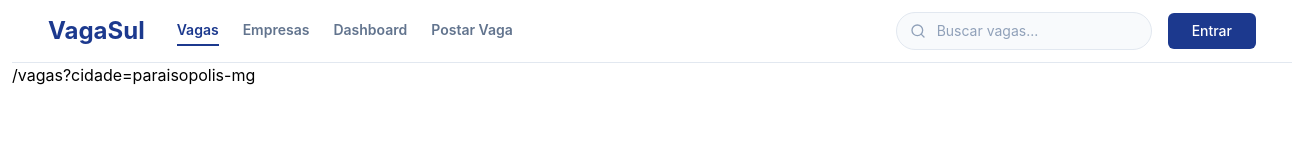
Test: Navbar › keeps listing filters when searching from /vagas
The image size is (1292, 160).
Type "vendedor" into the search field labelled "Buscar vagas" at (1024, 31), box [896,12,1152,50]
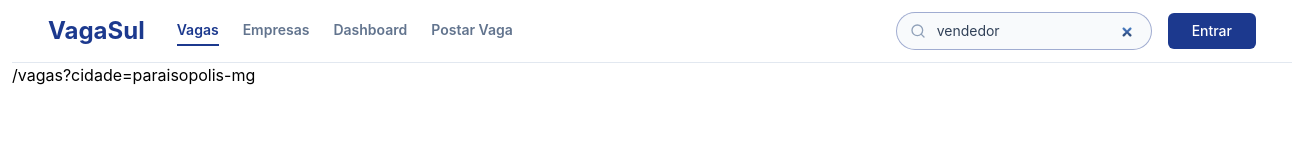
Click the button named "Buscar vagas" at (918, 31), box [910,23,926,39]
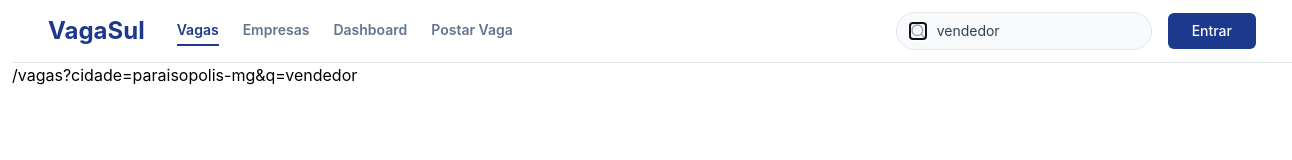
Expected: the text with test id "location" shows "/vagas?", [12,65,357,85]
Now the text with test id "location" shows "q=vendedor", box [12,65,357,85]
